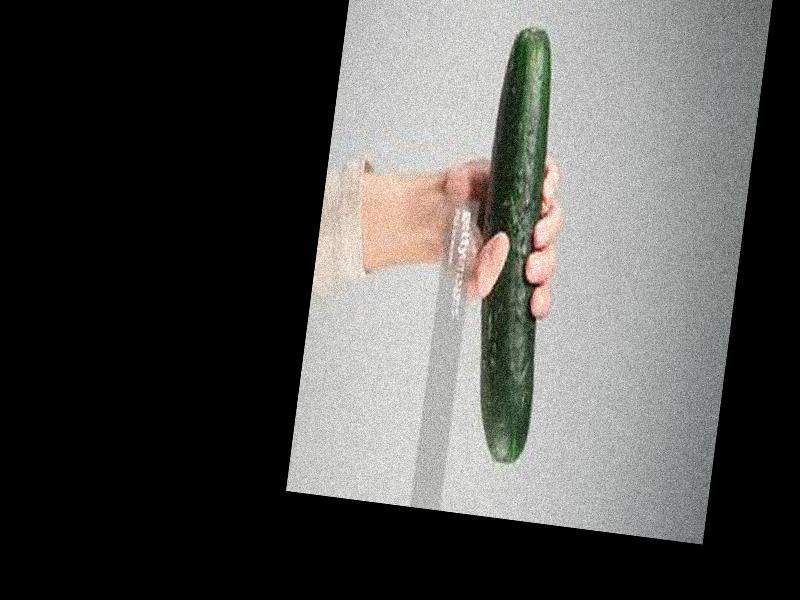Cucumber: (453, 32, 579, 465)
